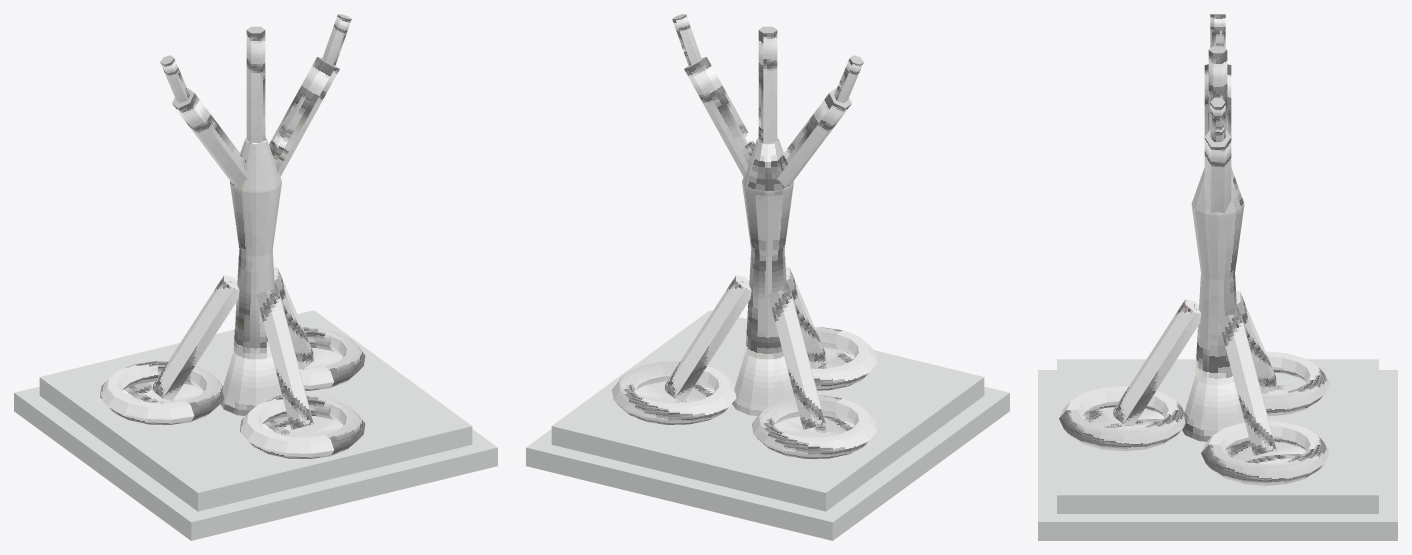
The model's file is Building_SculptureGrand.glb.
3 renders of one model, left to right at view 1: azimuth 30°, elevation 25°; view 2: azimuth 150°, elevation 25°; view 3: azimuth 270°, elevation 25°, orthographic.
Visible parts, largest first — view 1: SculptureGrand; view 2: SculptureGrand; view 3: SculptureGrand.
Boxes of the visible parts, x1=… form: SculptureGrand: x1=14, y1=14, x2=497, y2=540; SculptureGrand: x1=526, y1=14, x2=1009, y2=540; SculptureGrand: x1=1038, y1=14, x2=1397, y2=540.
Size of the model in its own units: 1.9 by 2.42 by 1.9.
Materials: 1 (1 with a texture image).
